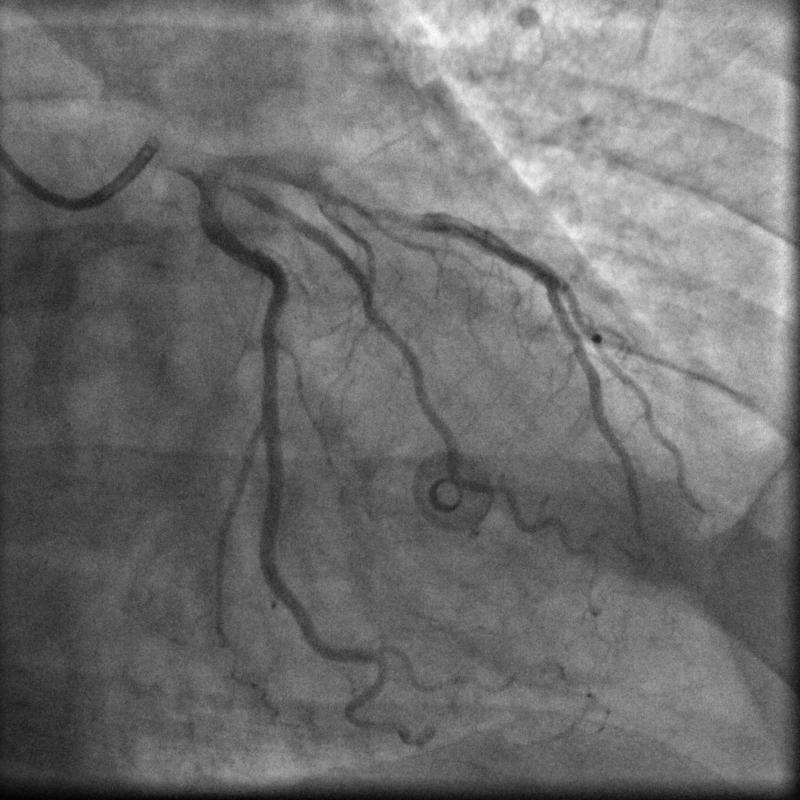Stenosis: (348, 196, 430, 228)
